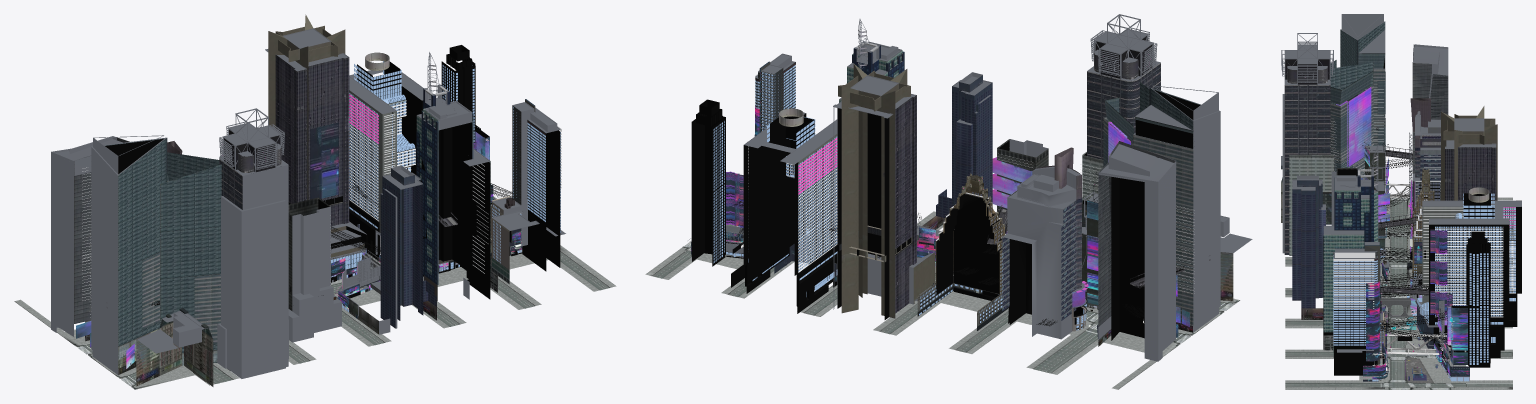
File: anshdemand2-v1-transformed.glb
3 renders of one model, left to right at view 1: azimuth 30°, elevation 25°; view 2: azimuth 150°, elevation 25°; view 3: azimuth 270°, elevation 25°, orthographic. The views are drawn at different scales.
Parts seen in each view (by area): view 1: Object_14, Object_180, Object_26, Object_41, Object_32, Plane.007, Object_11, Object_186, BézierCurve.062, Object_189; view 2: Object_14, Object_26, Object_180, Object_41, Object_32, Object_11, Plane.007, Object_186, Object_189, BézierCurve.062; view 3: Object_180, Object_14, Object_26, Object_32, Object_41, Object_11, Plane.007, BézierCurve.062, Cube.031, Object_186, Object_4, Cube.046 (+2 smaller).
Part boxes in pixels (bbox=[...]): Object_14: bbox=[51, 28, 565, 378]; Object_180: bbox=[74, 55, 490, 370]; Object_26: bbox=[105, 45, 560, 299]; Object_41: bbox=[85, 14, 560, 386]; Object_32: bbox=[14, 196, 616, 389]; Plane.007: bbox=[82, 103, 561, 317]; Object_11: bbox=[310, 99, 534, 286]; Object_186: bbox=[76, 224, 380, 368]; BézierCurve.062: bbox=[149, 183, 512, 306]; Object_189: bbox=[337, 94, 378, 300]; Object_14: bbox=[683, 14, 1252, 361]; Object_26: bbox=[691, 67, 1199, 340]; Object_180: bbox=[839, 41, 1200, 326]; Object_41: bbox=[755, 29, 1233, 346]; Object_32: bbox=[645, 211, 1239, 389]; Object_11: bbox=[691, 61, 1177, 296]; Plane.007: bbox=[748, 55, 1194, 293]; Object_186: bbox=[774, 200, 1189, 338]; Object_189: bbox=[798, 138, 1094, 254]; BézierCurve.062: bbox=[732, 200, 1144, 326]; Object_180: bbox=[1284, 22, 1496, 332]; Object_14: bbox=[1281, 14, 1521, 389]; Object_26: bbox=[1322, 58, 1521, 380]; Object_32: bbox=[1285, 197, 1512, 389]; Object_41: bbox=[1281, 59, 1515, 364]; Object_11: bbox=[1336, 87, 1469, 380]; Plane.007: bbox=[1326, 89, 1515, 317]; BézierCurve.062: bbox=[1378, 158, 1446, 342]; Cube.031: bbox=[1378, 147, 1428, 295]; Object_186: bbox=[1364, 146, 1446, 368]; Object_4: bbox=[1385, 183, 1450, 350]; Cube.046: bbox=[1380, 293, 1416, 317].
Size of the model in its own units: 29.8 by 15.57 by 15.74.
22 materials, 20 textured.
